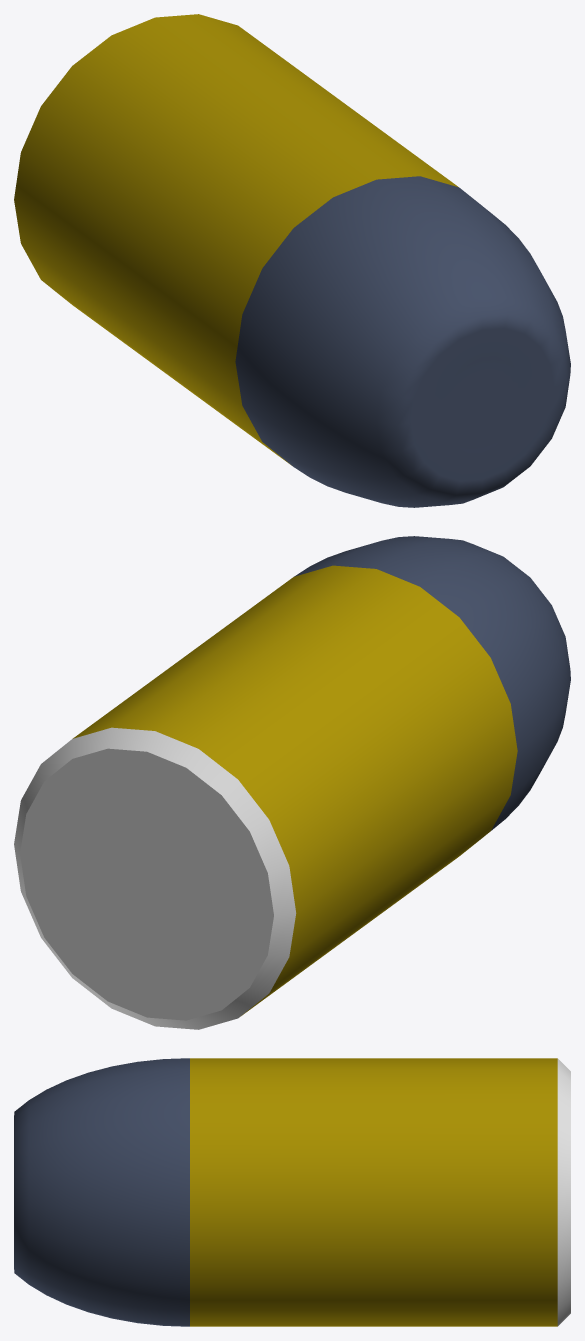
File: Grenade Launcher Shell.fbx
The picture shows the model from 3 angles, top to bottom: view 1: azimuth 30°, elevation 25°; view 2: azimuth 150°, elevation 25°; view 3: azimuth 270°, elevation 25°; orthographic projection. The views are drawn at different scales.
Visible parts, largest first — view 1: pCylinder36; view 2: pCylinder36; view 3: pCylinder36.
Boxes of the visible parts, x1=… form: pCylinder36: x1=14, y1=14, x2=570, y2=507; pCylinder36: x1=14, y1=536, x2=570, y2=1029; pCylinder36: x1=14, y1=1058, x2=570, y2=1326.
Size of the model in its own units: 0.4786 by 0.4786 by 0.985.
